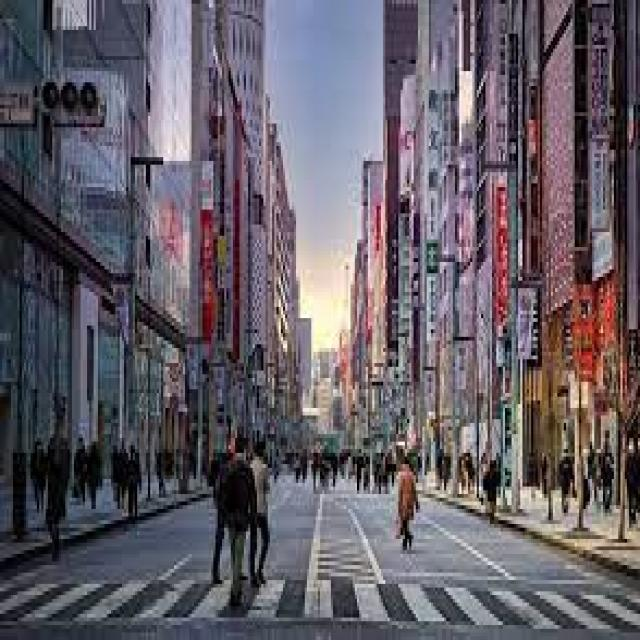Pedestrians: (216, 438, 254, 606), (392, 453, 427, 558)
